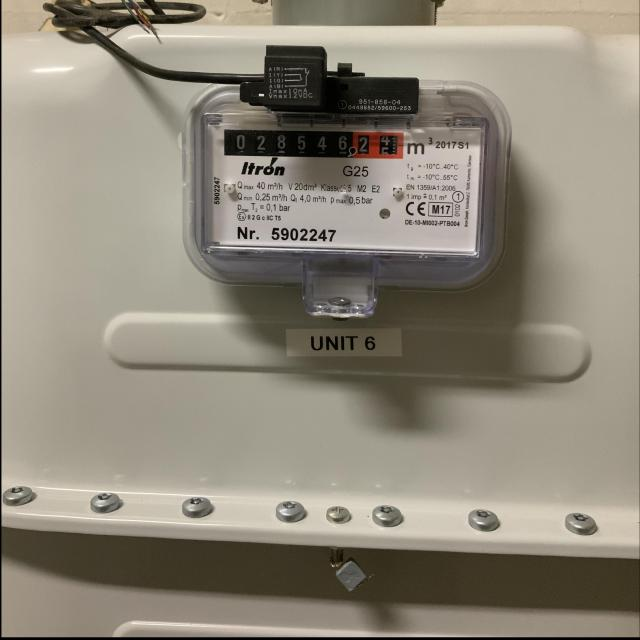gaz_meter: (200, 112, 482, 261)
indication: (225, 124, 402, 160)
